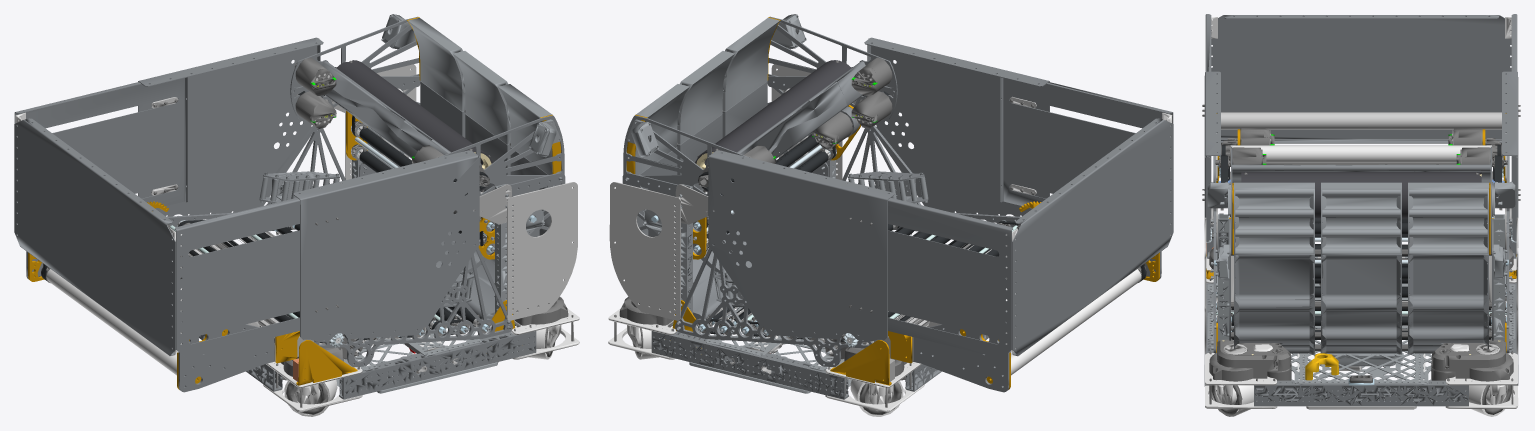
Rendered from matterhorn-9496.glb.
3 renders of one model, left to right at view 1: azimuth 30°, elevation 25°; view 2: azimuth 150°, elevation 25°; view 3: azimuth 270°, elevation 25°, orthographic. The views are drawn at different scales.
Visible parts, largest first — view 1: frame, hopper-ext, intake, flywheel, intake-roller-1, feeder-roller-1, feeder-roller-0; view 2: frame, hopper-ext, intake, flywheel, intake-roller-1, feeder-roller-1, feeder-roller-0; view 3: frame, hopper-ext, intake, intake-roller-0, flywheel.
Part boxes in pixels (<box>): frame: <box>138,14,579,416</box>; hopper-ext: <box>14,77,338,358</box>; intake: <box>26,201,314,392</box>; flywheel: <box>336,60,492,191</box>; intake-roller-1: <box>46,269,176,375</box>; feeder-roller-1: <box>351,121,494,231</box>; feeder-roller-0: <box>351,144,494,254</box>; frame: <box>608,14,1049,416</box>; hopper-ext: <box>849,77,1173,358</box>; intake: <box>873,201,1161,392</box>; flywheel: <box>695,60,851,191</box>; intake-roller-1: <box>1011,269,1141,375</box>; feeder-roller-1: <box>693,134,818,231</box>; feeder-roller-0: <box>693,147,836,254</box>; frame: <box>1204,71,1518,416</box>; hopper-ext: <box>1202,14,1520,218</box>; intake: <box>1210,112,1512,224</box>; intake-roller-0: <box>1231,145,1491,162</box>; flywheel: <box>1241,172,1481,218</box>.
Size of the model in its own units: 0.9858 by 0.5556 by 0.6966.
